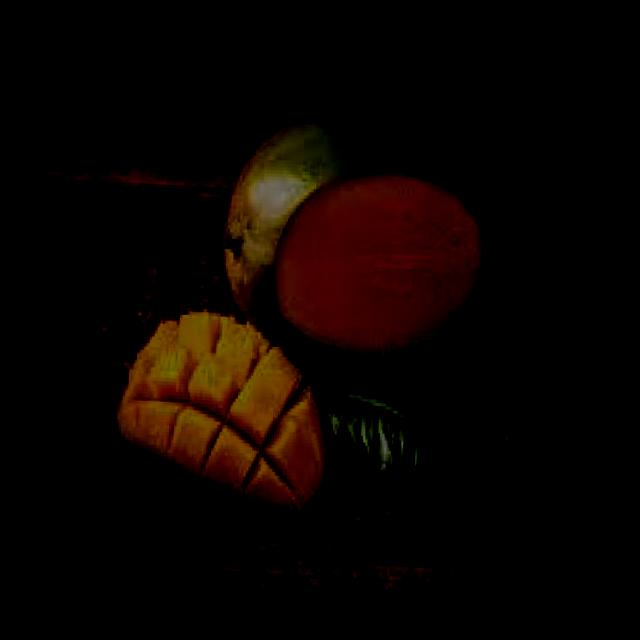Mango: (216, 103, 500, 375), (112, 304, 338, 518)
